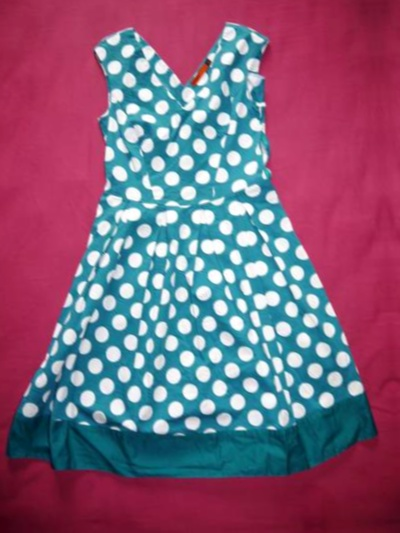Dress: (0, 0, 391, 512), (382, 0, 400, 493)
